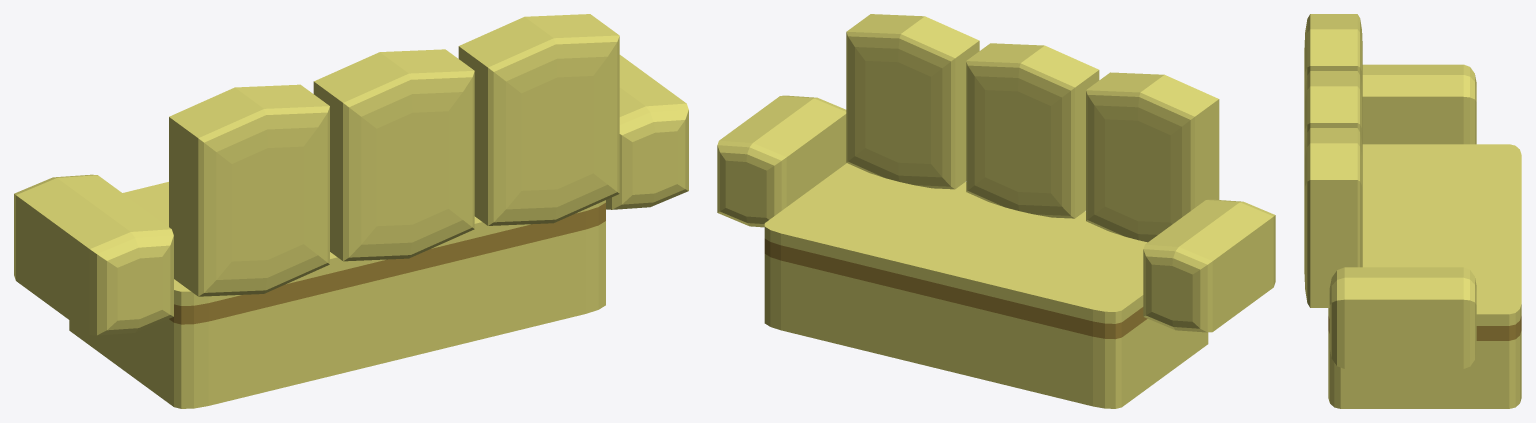
The model's file is sofa_asset.dae.
The picture shows the model from 3 angles, left to right: view 1: azimuth 30°, elevation 25°; view 2: azimuth 150°, elevation 25°; view 3: azimuth 270°, elevation 25°; orthographic projection. The views are drawn at different scales.
Parts seen in each view (by area): view 1: Cube.003, TV_Stand.003, Cube.002; view 2: TV_Stand.003, Cube.003, Cube.002; view 3: TV_Stand.003, Cube.002, Cube.003.
Boxes of the visible parts, x1,y1,x2,y2 form: Cube.003: (169,14,619,296); TV_Stand.003: (69,182,605,408); Cube.002: (14,55,688,335); TV_Stand.003: (764,163,1208,408); Cube.003: (846,14,1219,242); Cube.002: (717,95,1275,332); TV_Stand.003: (1328,144,1521,408); Cube.002: (1329,64,1476,368); Cube.003: (1304,14,1362,307).
Bounding box in the file's own units: 1.43 × 0.5591 × 0.6753.
